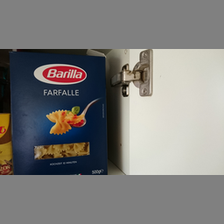pasta: (10, 51, 107, 174)
